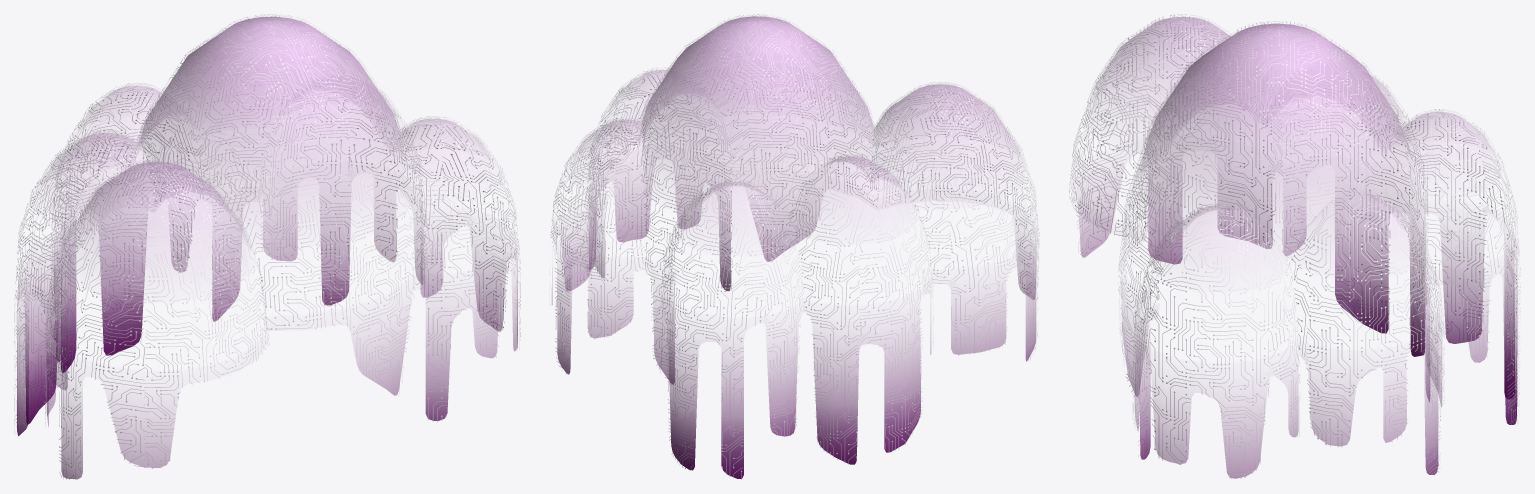
File: Dome02_Art.glb
The picture shows the model from 3 angles, left to right: view 1: azimuth 30°, elevation 25°; view 2: azimuth 150°, elevation 25°; view 3: azimuth 270°, elevation 25°; orthographic projection. The views are drawn at different scales.
Visible parts, largest first — view 1: Dome02_Art; view 2: Dome02_Art; view 3: Dome02_Art.
Part boxes in pixels (left/top/right/bottom): Dome02_Art: left=14, top=14, right=520, bottom=479; Dome02_Art: left=550, top=14, right=1039, bottom=479; Dome02_Art: left=1069, top=14, right=1520, bottom=478.
Size of the model in its own units: 41.38 by 34.61 by 34.2.
Materials: 2 (2 with a texture image).
